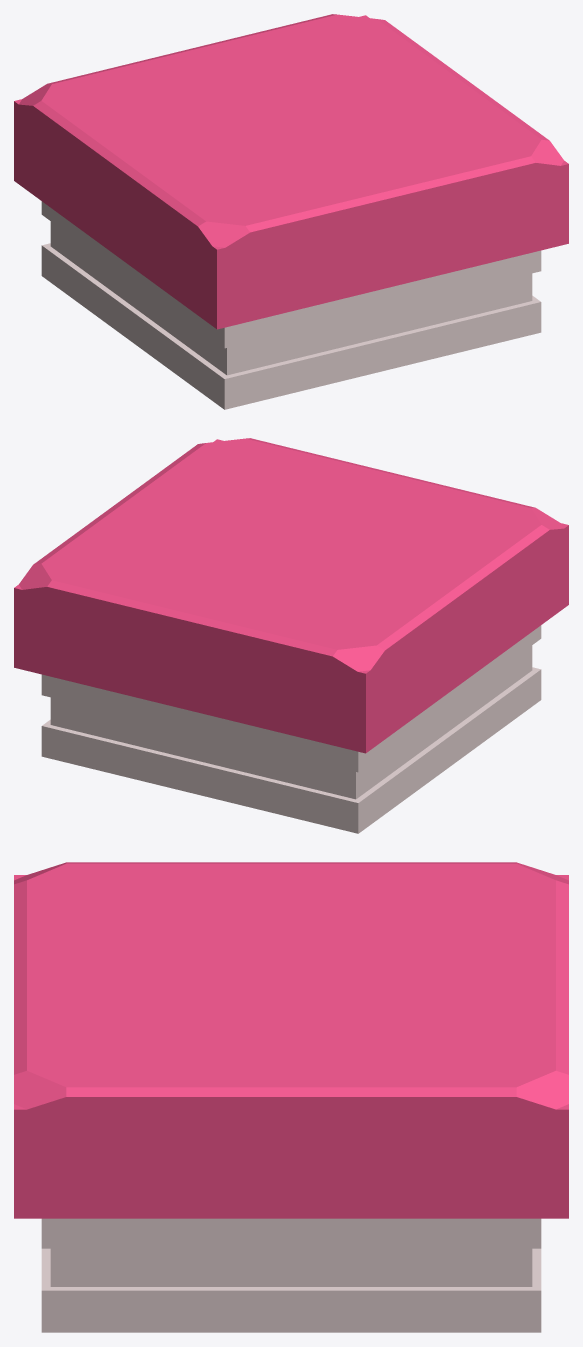
The model's file is checkerboard_1_1x1.fbx.
3 views of the same model, one above another, from view 1: azimuth 30°, elevation 25°; view 2: azimuth 150°, elevation 25°; view 3: azimuth 270°, elevation 25° (orthographic). The views are drawn at different scales.
Visible parts, largest first — view 1: Cube.021, Cube.023; view 2: Cube.021, Cube.023; view 3: Cube.021, Cube.023.
Part boxes in pixels (x1,y1,x2,y2): Cube.021: [14, 14, 568, 329]; Cube.023: [41, 201, 541, 409]; Cube.021: [14, 438, 568, 753]; Cube.023: [41, 625, 541, 833]; Cube.021: [14, 862, 568, 1218]; Cube.023: [41, 1218, 541, 1332].
Size of the model in its own units: 100 by 50 by 100.
